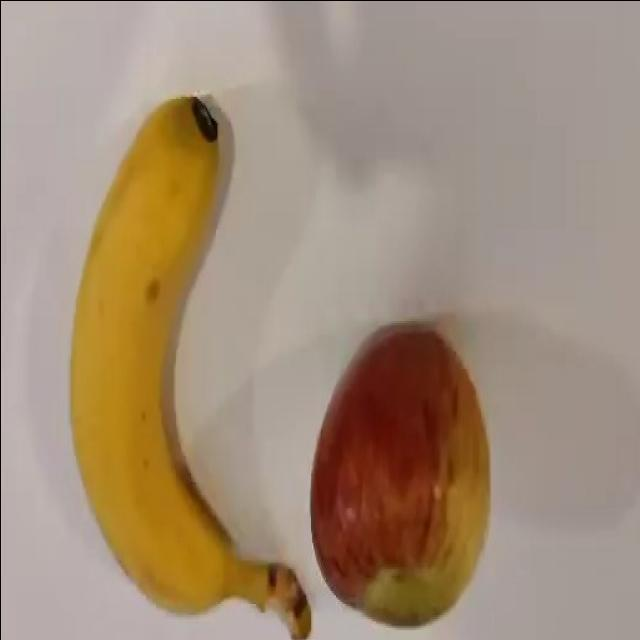Apple: (309, 322, 496, 629)
Banana: (68, 95, 269, 622)
